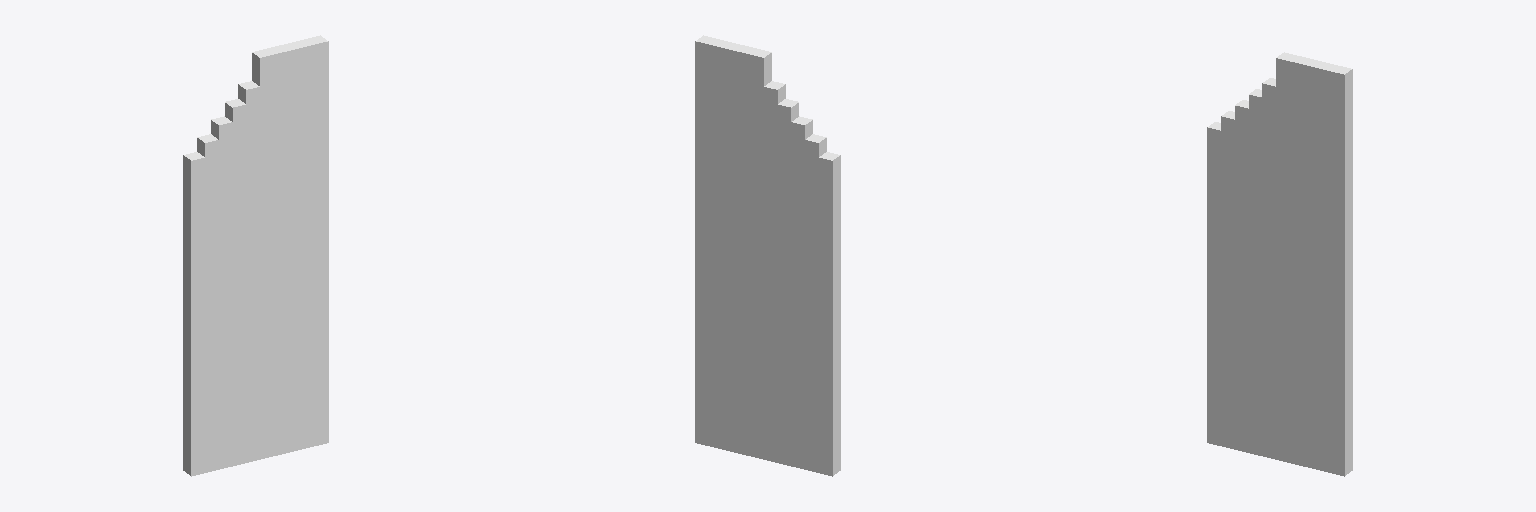
The model's file is gateDoor.obj.
3 views of the same model, side by side, from view 1: azimuth 30°, elevation 25°; view 2: azimuth 150°, elevation 25°; view 3: azimuth 330°, elevation 25° (orthographic).
Visible parts, largest first — view 1: object 1; view 2: object 1; view 3: object 1.
Part boxes in pixels (x1,y1,x2,y2): object 1: (183, 35, 328, 476); object 1: (695, 35, 840, 476); object 1: (1207, 52, 1352, 476).
Bounding box in the file's own units: 1 × 2.8 × 0.1.